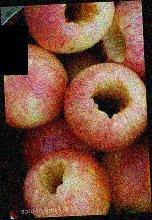rotten apple: (69, 62, 146, 146), (33, 155, 66, 199)
